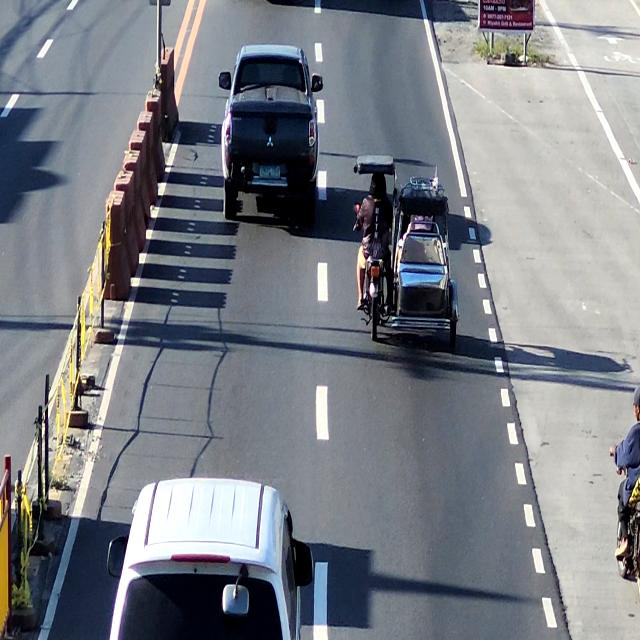Car: (112, 474, 316, 640), (220, 42, 318, 224)
License-Plate: (257, 159, 282, 186)
Motorcycle: (611, 386, 640, 589)
Tricycle: (354, 154, 464, 352)
